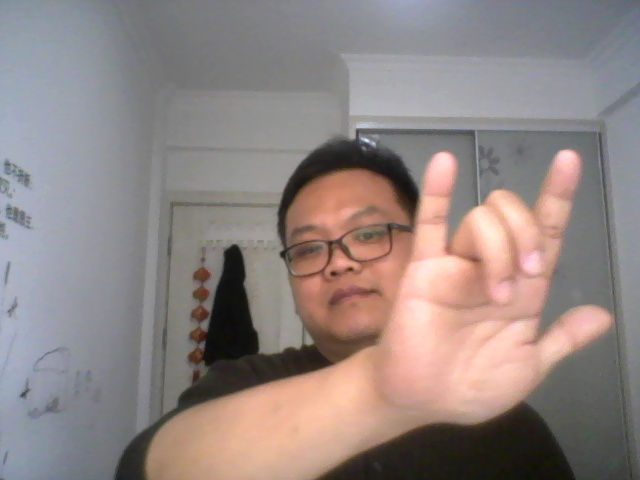I Love You: (385, 136, 620, 431)
